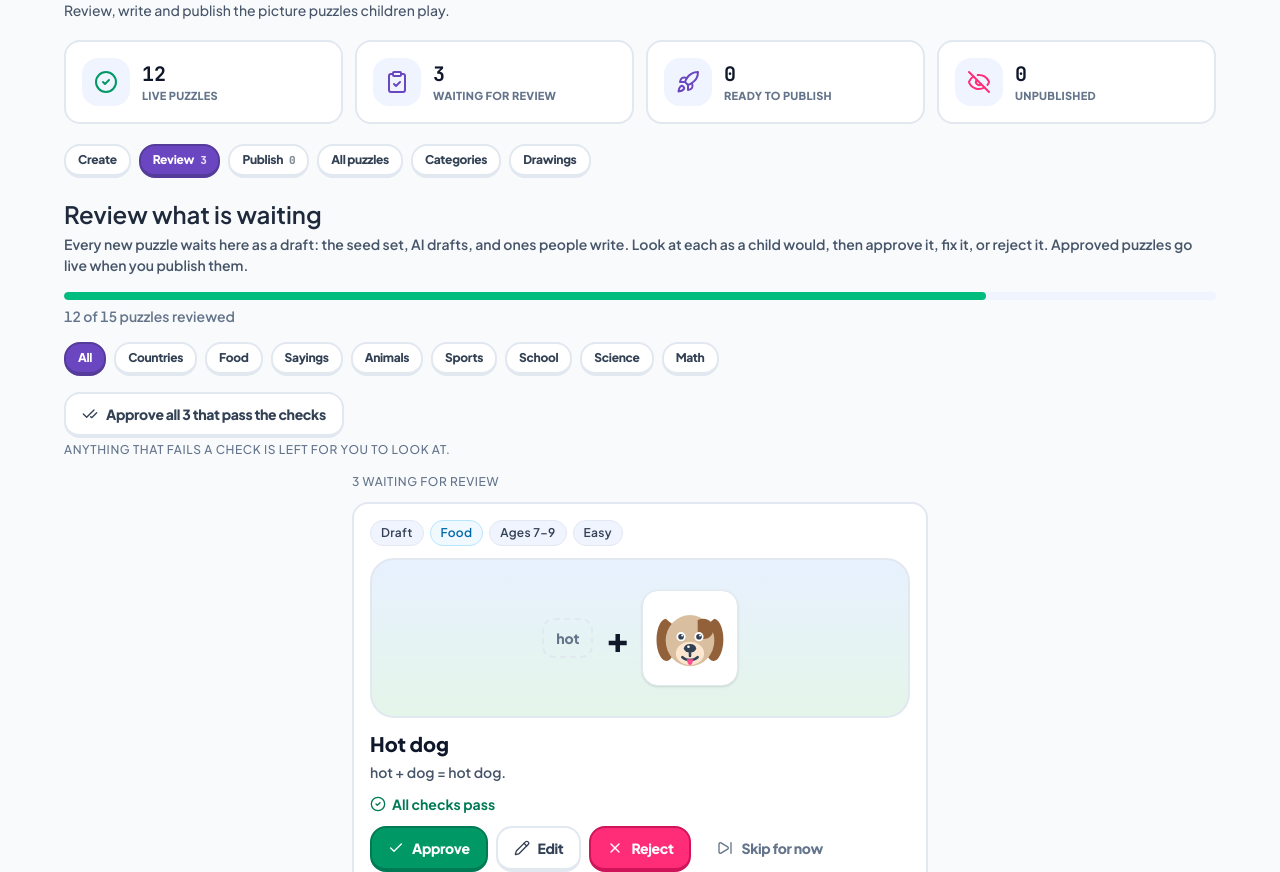
Test case: reviewing what is waiting › rejects a weak puzzle and moves on
This screenshot has width=1280, height=872.
Click the button "Reject" at x=640, y=849, box x1=589 y1=826 x2=691 y2=871
(page scrolled)
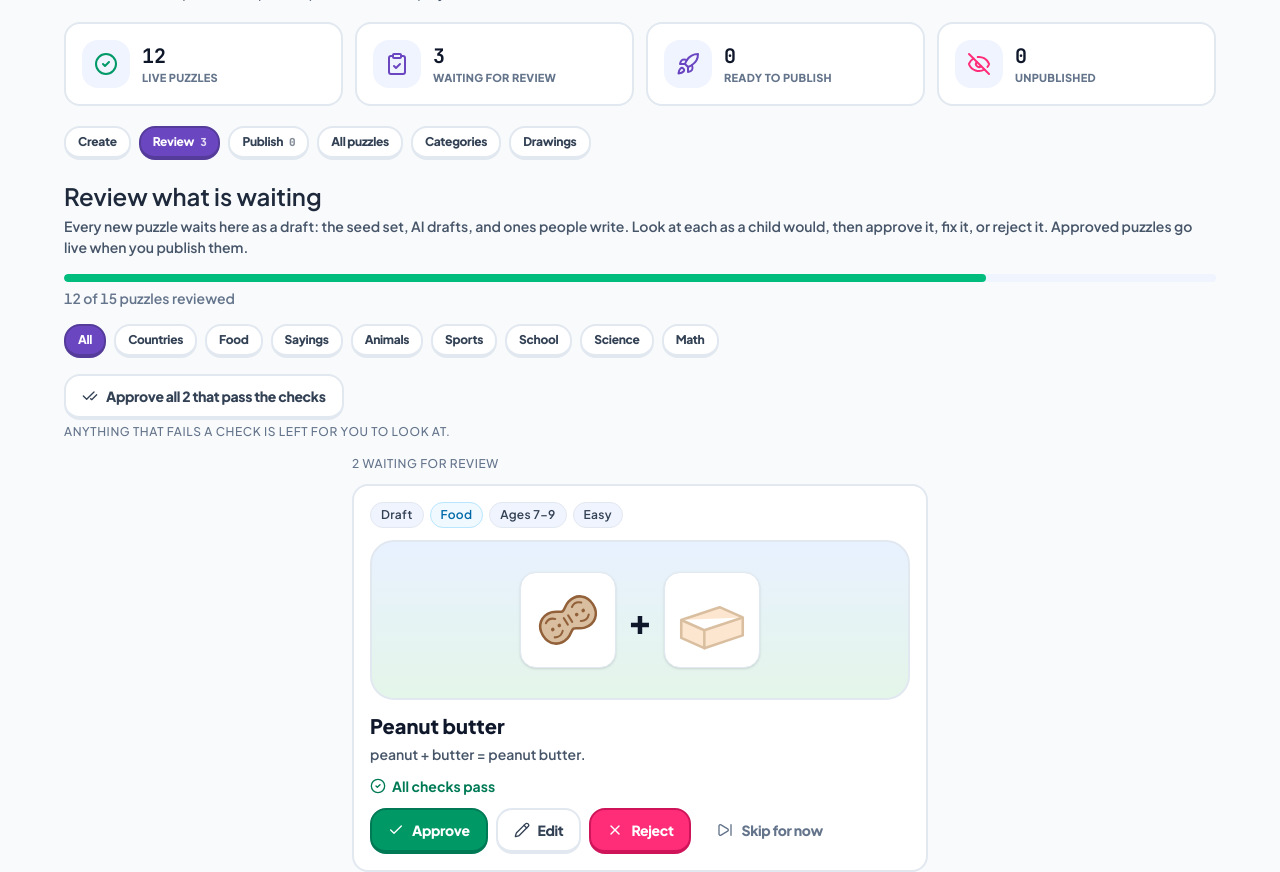
Expected: the element "Peanut butter" is shown, x1=352 y1=484 x2=928 y2=871
